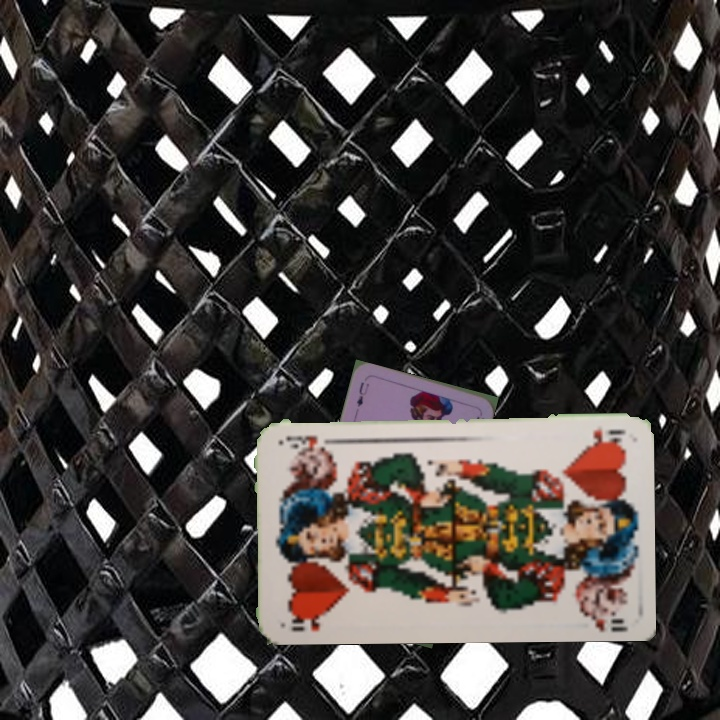EU: (353, 378, 372, 409)
HO: (282, 609, 334, 634), (589, 424, 628, 447)
